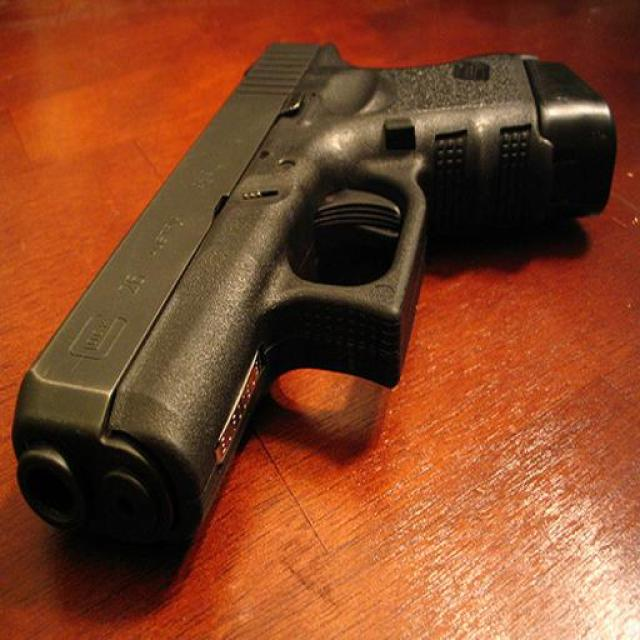pistol: (11, 38, 612, 559)
